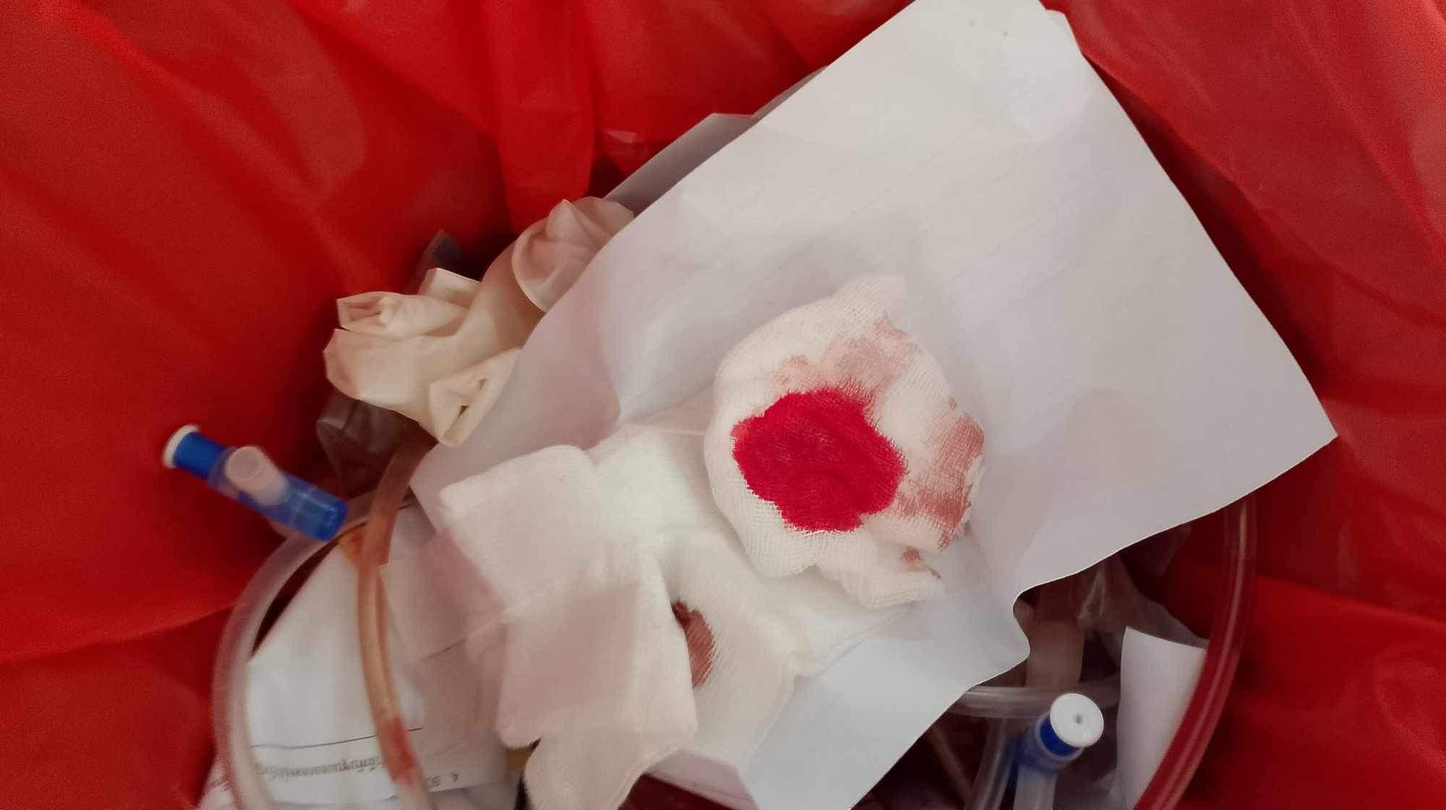General: (162, 3, 1338, 806)
Infectious: (701, 272, 986, 610), (160, 422, 348, 543)
